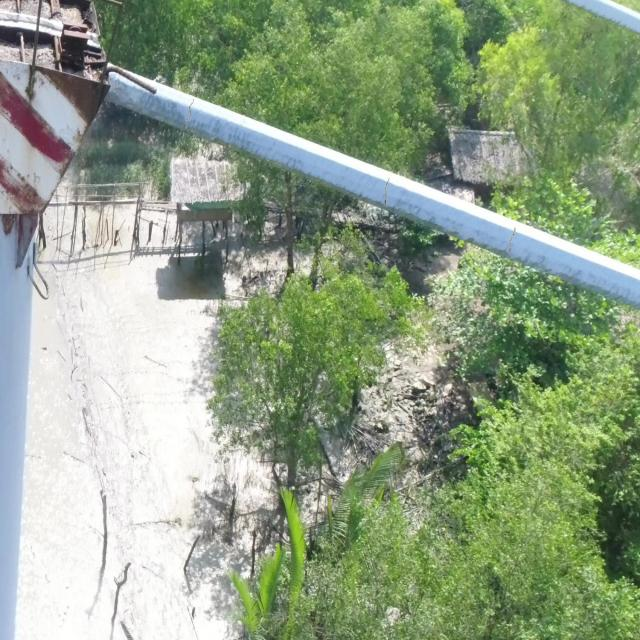crack: (184, 97, 195, 130), (507, 226, 516, 254), (383, 177, 390, 206)
